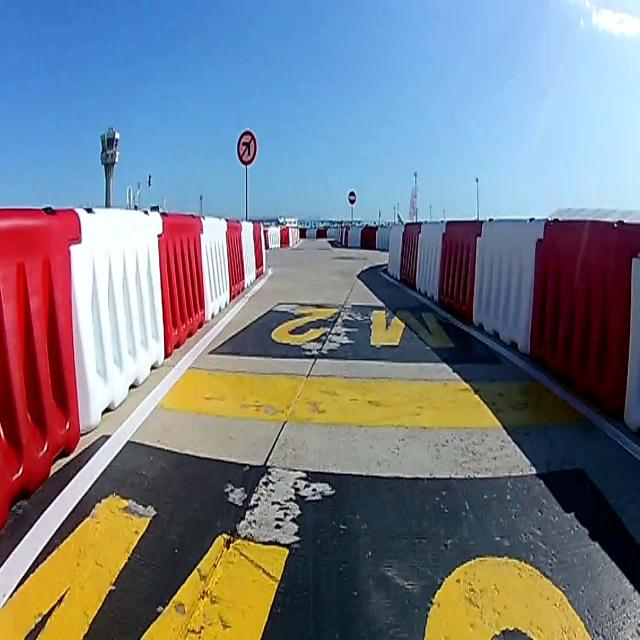girisyok: (348, 190, 357, 206)
soladonulmez: (236, 130, 258, 166)
